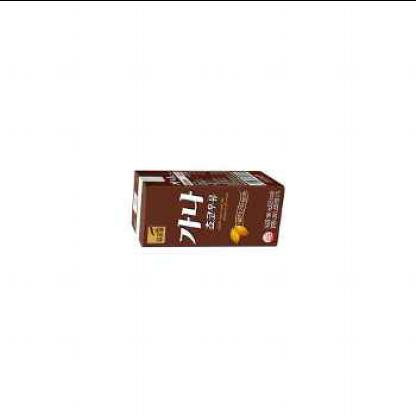tetra: (94, 154, 306, 275)
